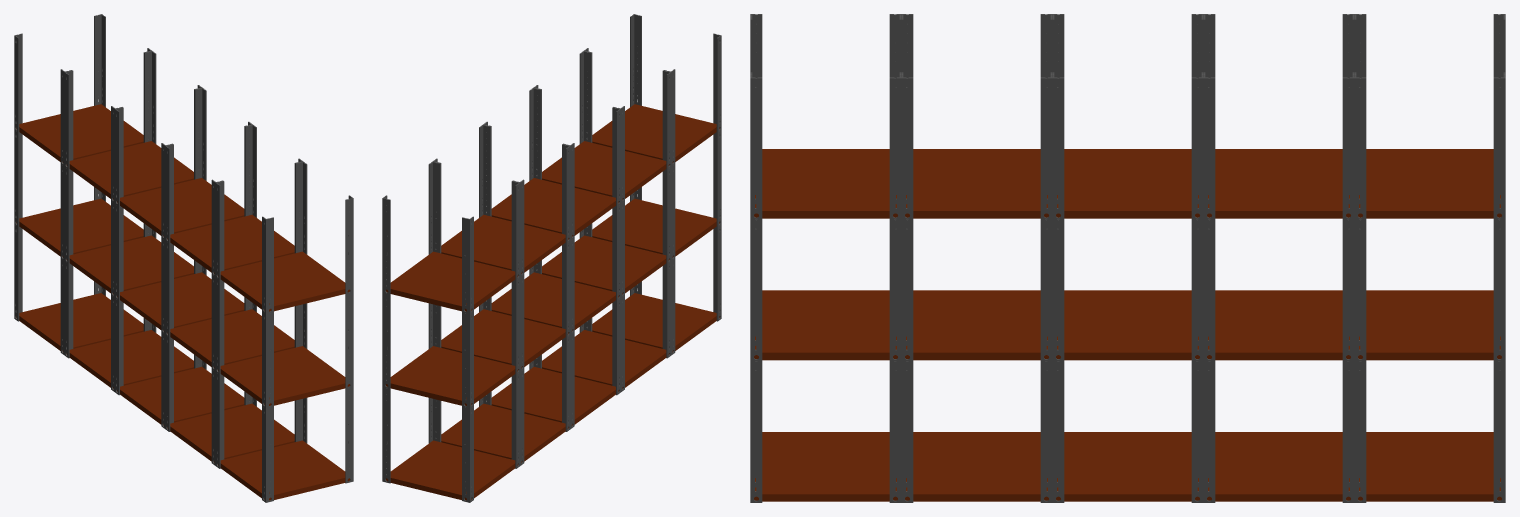
The model's file is Estante_x5.fbx.
3 renders of one model, left to right at view 1: azimuth 30°, elevation 25°; view 2: azimuth 150°, elevation 25°; view 3: azimuth 270°, elevation 25°, orthographic. The views are drawn at different scales.
Parts seen in each view (by area): view 1: Cube.001; view 2: Cube.001; view 3: Cube.001.
Part boxes in pixels (x1,y1,x2,y2): Cube.001: [14, 14, 353, 502]; Cube.001: [382, 14, 721, 502]; Cube.001: [750, 14, 1505, 502].
Size of the model in its own units: 95.74 by 295 by 476.
